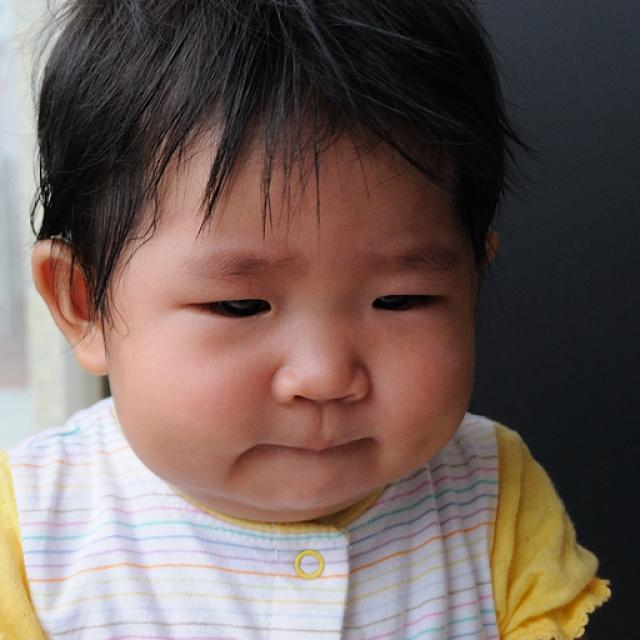sad: (107, 128, 475, 512)
